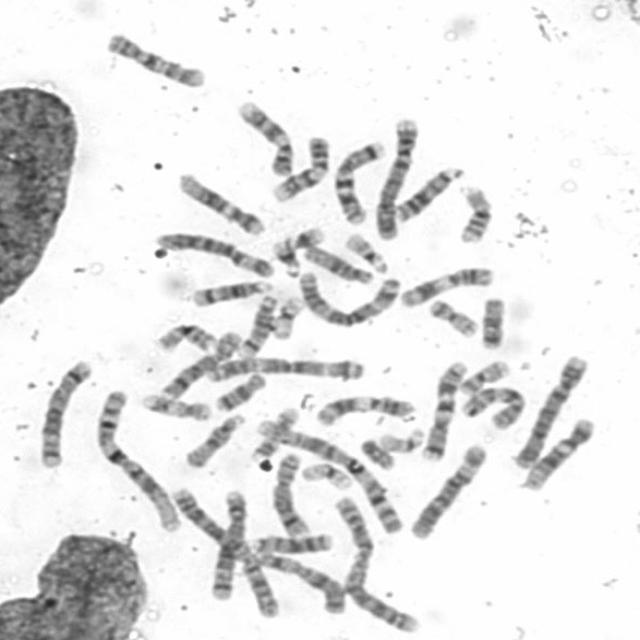A1: (250, 414, 406, 536), (90, 384, 184, 533)
A2: (166, 483, 284, 619), (330, 490, 423, 636)
A3: (294, 267, 404, 329), (200, 351, 368, 385)
B4: (509, 350, 591, 470), (370, 112, 420, 242)
B5: (33, 354, 95, 470), (205, 486, 250, 602)
C10: (100, 26, 208, 90), (458, 380, 528, 431)
C11: (395, 260, 497, 308), (310, 388, 418, 427)
C12: (172, 168, 268, 238), (518, 413, 597, 491)
C6: (404, 437, 490, 542), (151, 226, 277, 279)
C7: (416, 354, 470, 462), (328, 136, 387, 227)
C8: (156, 325, 244, 401), (267, 448, 311, 537)
C9: (232, 94, 298, 178), (267, 132, 332, 202)
D13: (388, 161, 468, 223), (246, 528, 335, 556)
D14: (234, 290, 282, 360), (187, 275, 276, 307)
D15: (180, 409, 247, 470), (296, 239, 376, 285)
E16: (452, 180, 495, 245), (152, 319, 220, 355)
E17: (246, 402, 300, 460), (136, 388, 214, 422)
E18: (211, 367, 267, 413), (476, 292, 510, 352)
F19: (296, 458, 354, 491), (266, 292, 305, 341)
F20: (423, 293, 483, 339), (454, 356, 510, 396)
G21: (268, 235, 303, 278), (281, 222, 326, 252)
G22: (342, 226, 392, 274), (374, 423, 426, 454)
X: (250, 548, 346, 616)
Y: (354, 433, 398, 471)
